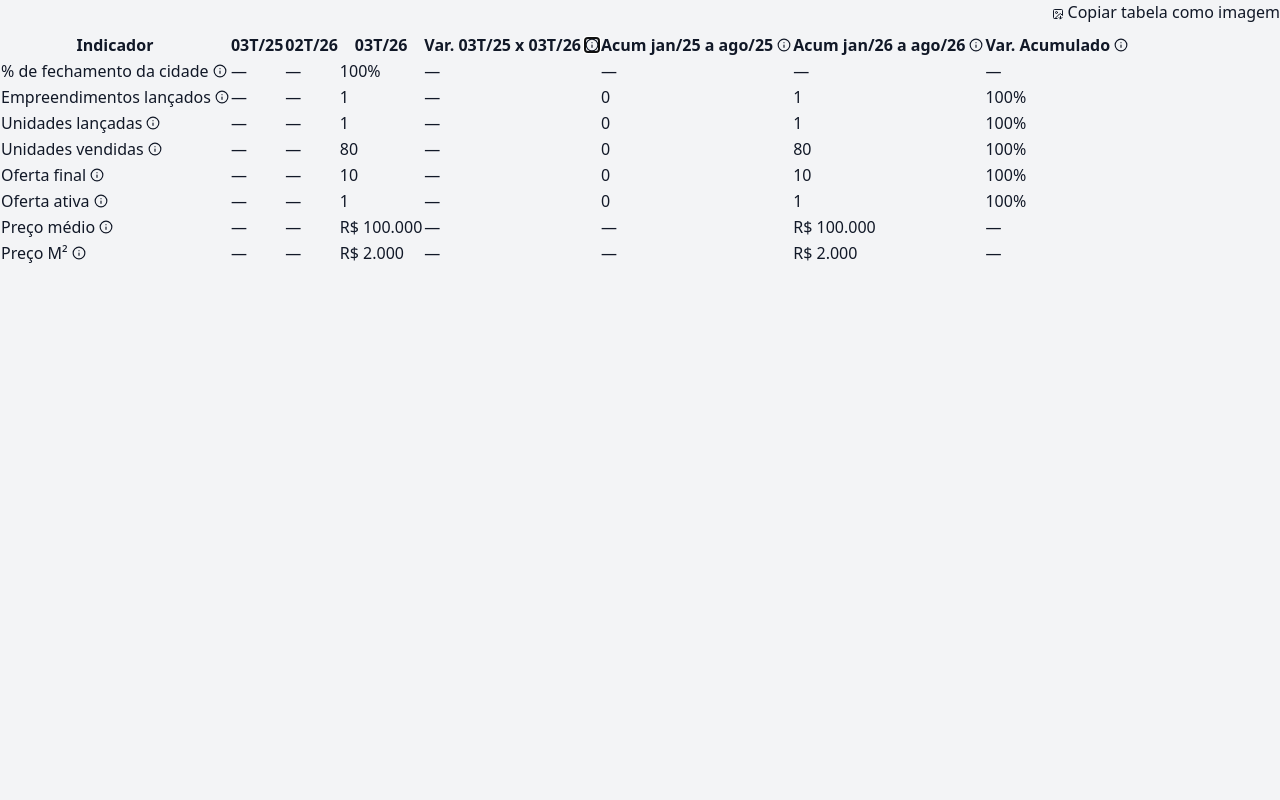
Test: variação anual do Resumo email › a ajuda de Variação anual descreve a regra vigente
Click the button named "Regra de cálculo — Variação anual".
click(592, 45)  # box [585, 38, 599, 52]
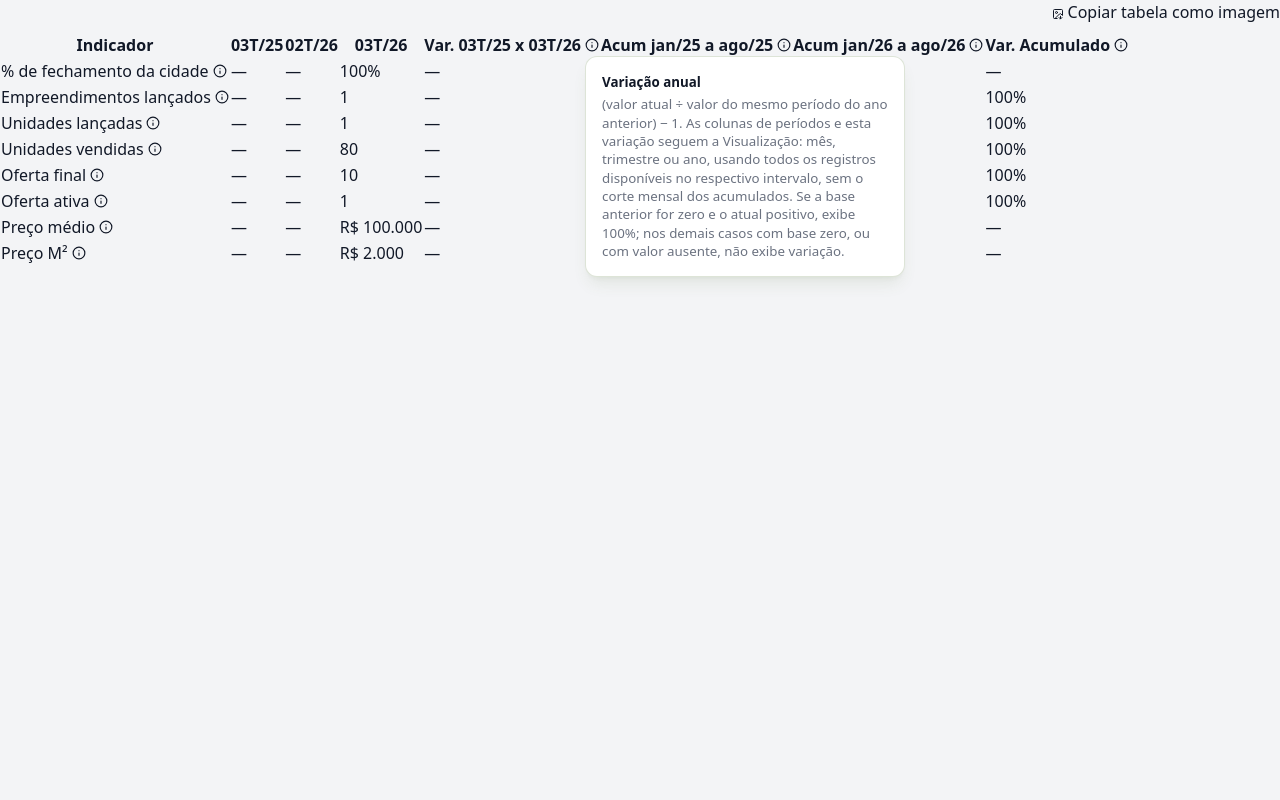
Expected: the dialog shows "sem o corte mensal dos acumulados", [602, 95, 888, 260]
Press Escape in the dialog, box [585, 56, 905, 277]
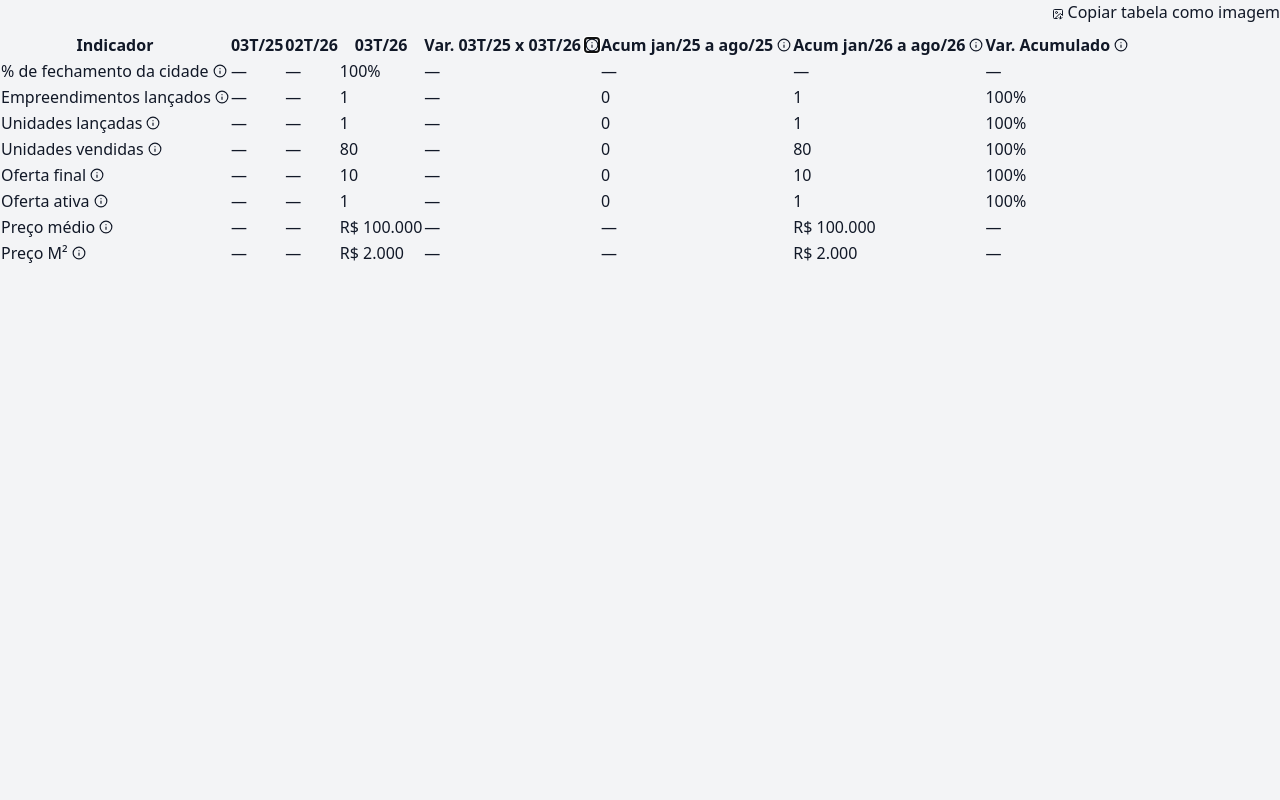
Expected: the dialog is gone
